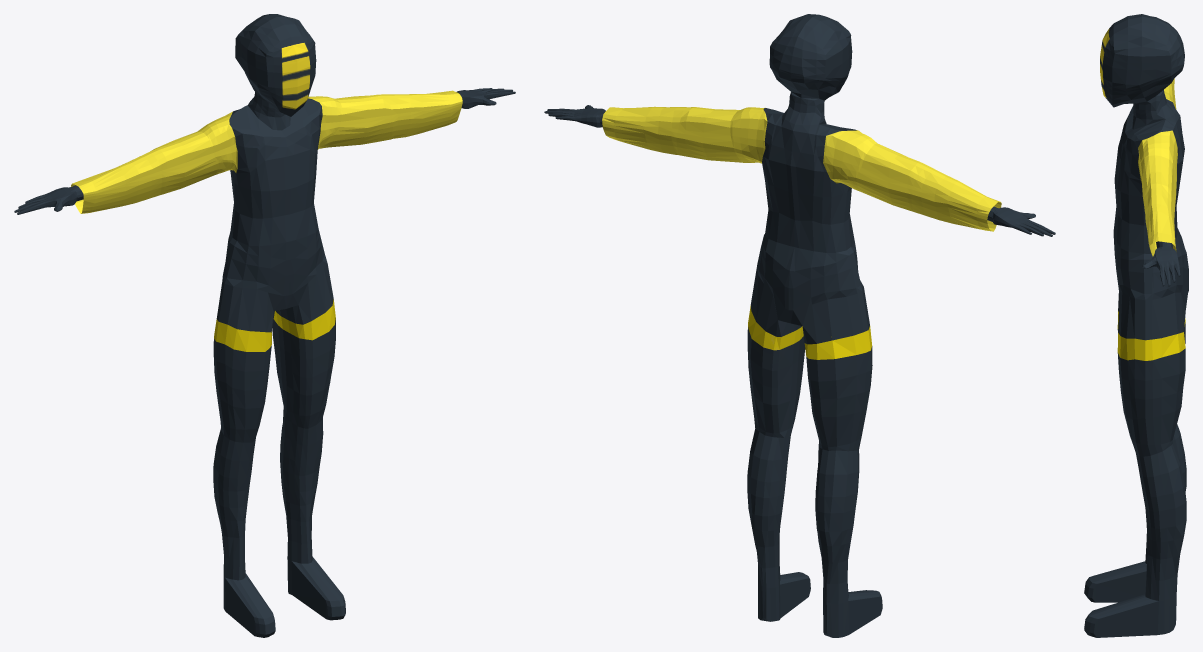
The model's file is Enemy_Spear.obj.
3 renders of one model, left to right at view 1: azimuth 30°, elevation 25°; view 2: azimuth 150°, elevation 25°; view 3: azimuth 270°, elevation 25°, orthographic.
Parts seen in each view (by area): view 1: Cube; view 2: Cube; view 3: Cube.
Part boxes in pixels (box(x1,y1,x2,y2)): Cube: box(14, 14, 515, 637); Cube: box(544, 14, 1055, 637); Cube: box(1084, 14, 1188, 637).
Bounding box in the file's own units: 3.48 × 3.95 × 0.6257.
Materials: 1 (1 with a texture image).
